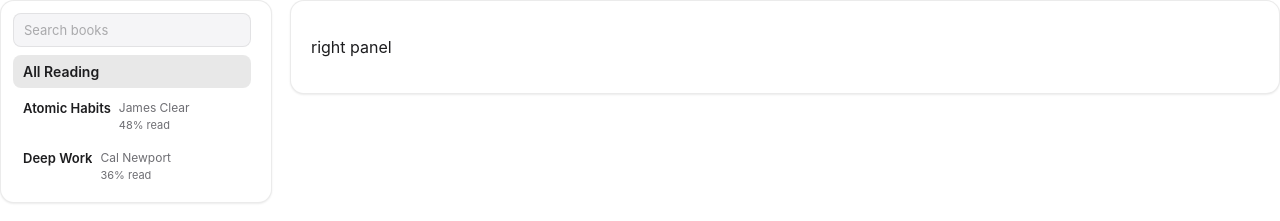
Scenario: keeps All scope visible and filters entities by local metadata
The image size is (1280, 221).
Type "cal" into the search field labelled "Search books" at (132, 30), box [13,13,251,47]
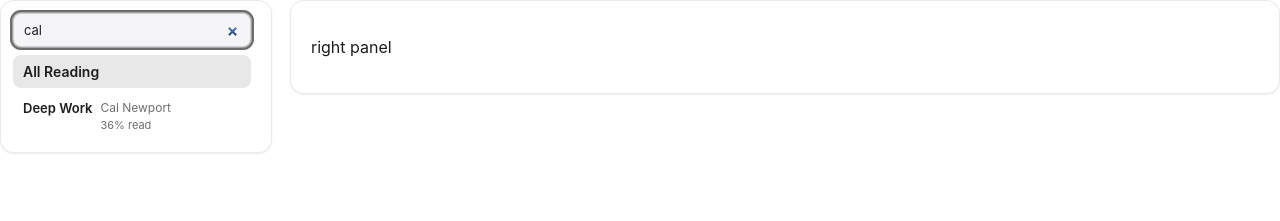
expect the button "Deep Work Cal Newport 36% read" is shown: met, box [13,92,251,140]
expect the button "Atomic Habits" is gone: met
